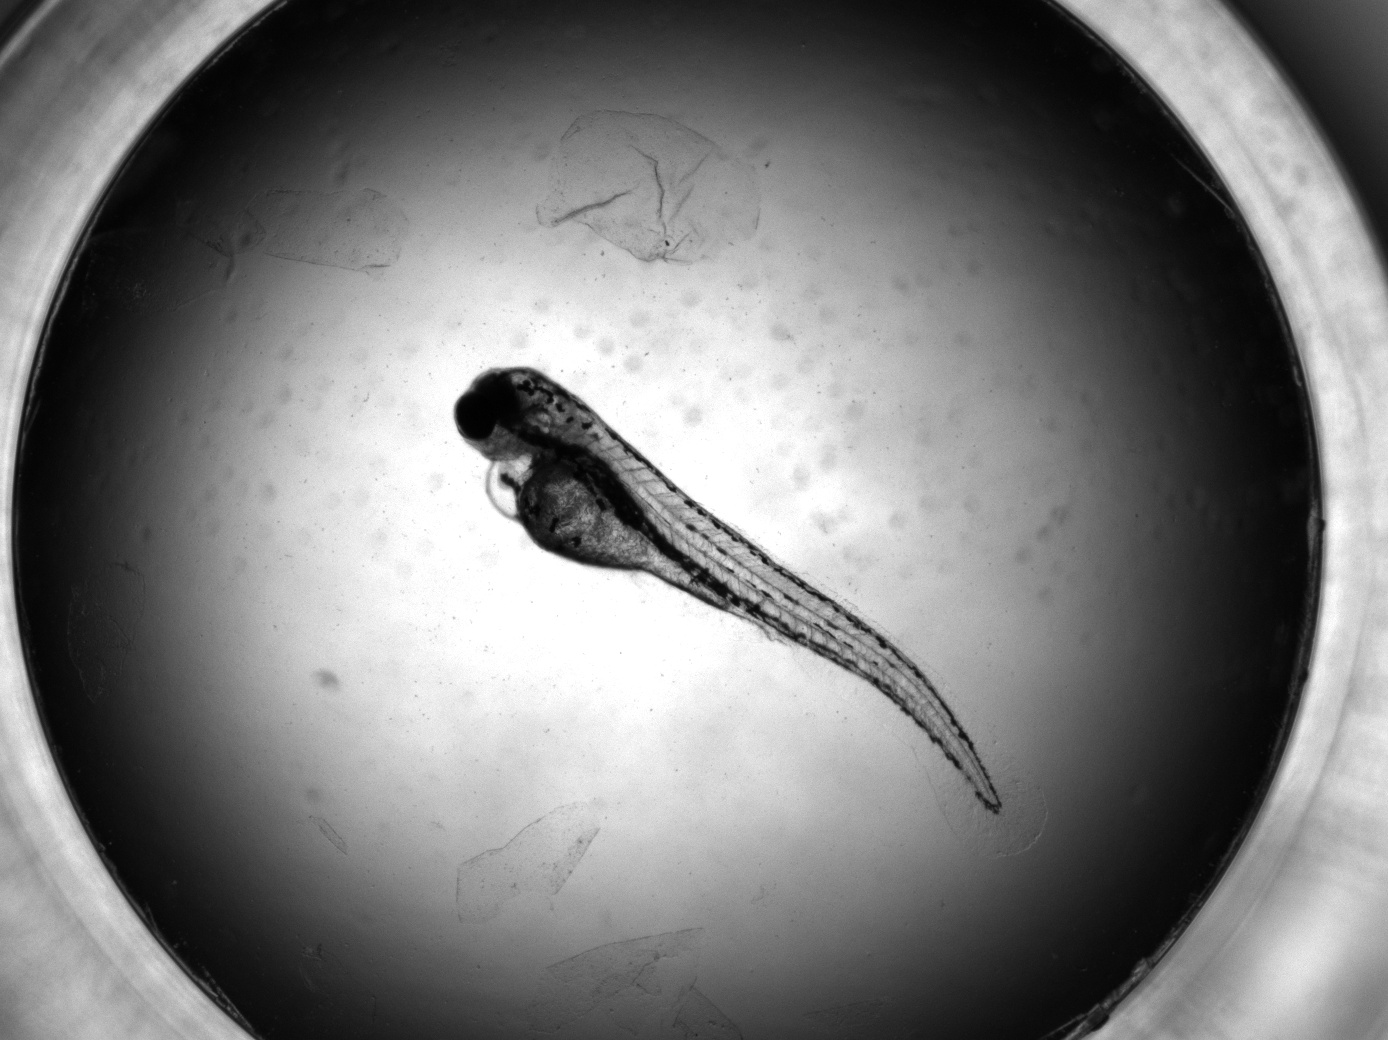debris: (536, 110, 766, 269), (167, 187, 407, 289), (530, 927, 745, 1040), (454, 797, 613, 925)
embryo: (453, 364, 1003, 815)
eye: (453, 390, 496, 440)
yolksac: (487, 439, 721, 601)
